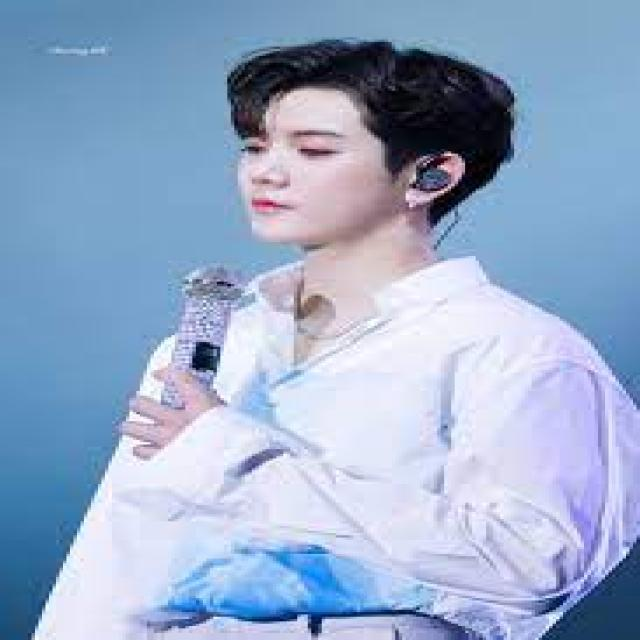earphone: (408, 141, 452, 200)
